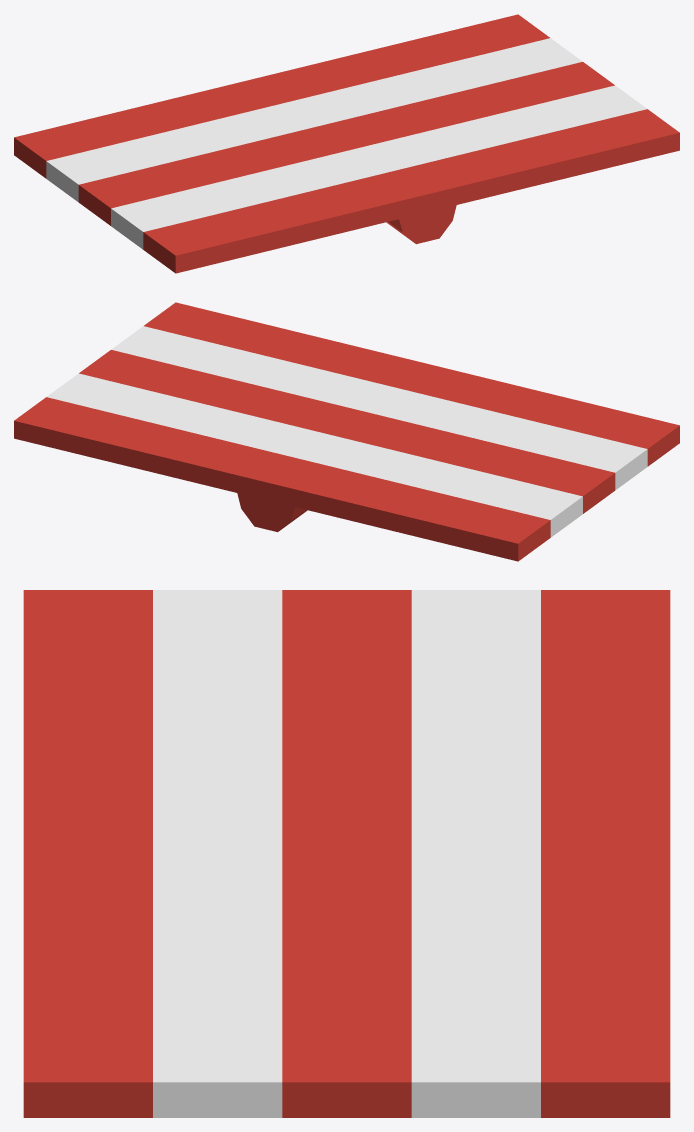
The model's file is Seesaw4.fbx.
3 renders of one model, top to bottom at view 1: azimuth 30°, elevation 25°; view 2: azimuth 150°, elevation 25°; view 3: azimuth 270°, elevation 25°, orthographic. The views are drawn at different scales.
Parts seen in each view (by area): view 1: Cube; view 2: Cube; view 3: Cube.
Part boxes in pixels (left/top/right/bottom): Cube: left=14, top=14, right=679, bottom=273; Cube: left=14, top=302, right=679, bottom=561; Cube: left=23, top=590, right=670, bottom=1117.
Size of the model in its own units: 1800 by 161 by 1000.
